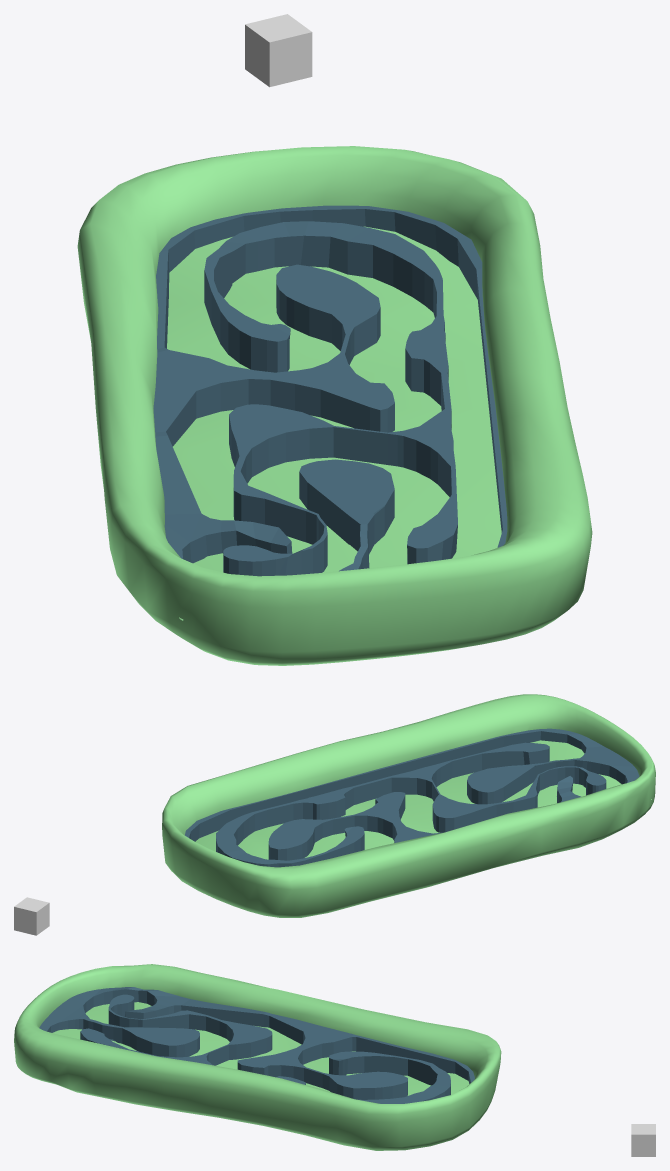
File: raceTrack 3.fbx
3 renders of one model, top to bottom at view 1: azimuth 30°, elevation 25°; view 2: azimuth 150°, elevation 25°; view 3: azimuth 270°, elevation 25°, orthographic. The views are drawn at different scales.
Visible parts, largest first — view 1: Cube, Cube.003, Cube.005; view 2: Cube, Cube.003, Cube.005; view 3: Cube, Cube.003, Cube.005.
Boxes of the visible parts, x1=… form: Cube: x1=77, y1=146, x2=592, y2=665; Cube.003: x1=153, y1=205, x2=507, y2=576; Cube.005: x1=245, y1=14, x2=312, y2=87; Cube: x1=162, y1=694, x2=655, y2=917; Cube.003: x1=184, y1=728, x2=639, y2=867; Cube.005: x1=14, y1=897, x2=49, y2=935; Cube: x1=14, y1=964, x2=501, y2=1150; Cube.003: x1=39, y1=987, x2=474, y2=1103; Cube.005: x1=631, y1=1124, x2=655, y2=1156.
Size of the model in its own units: 13104 by 2191 by 21888.
